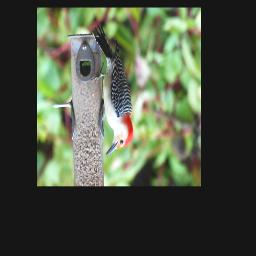Woodpecker: (90, 21, 134, 156)
